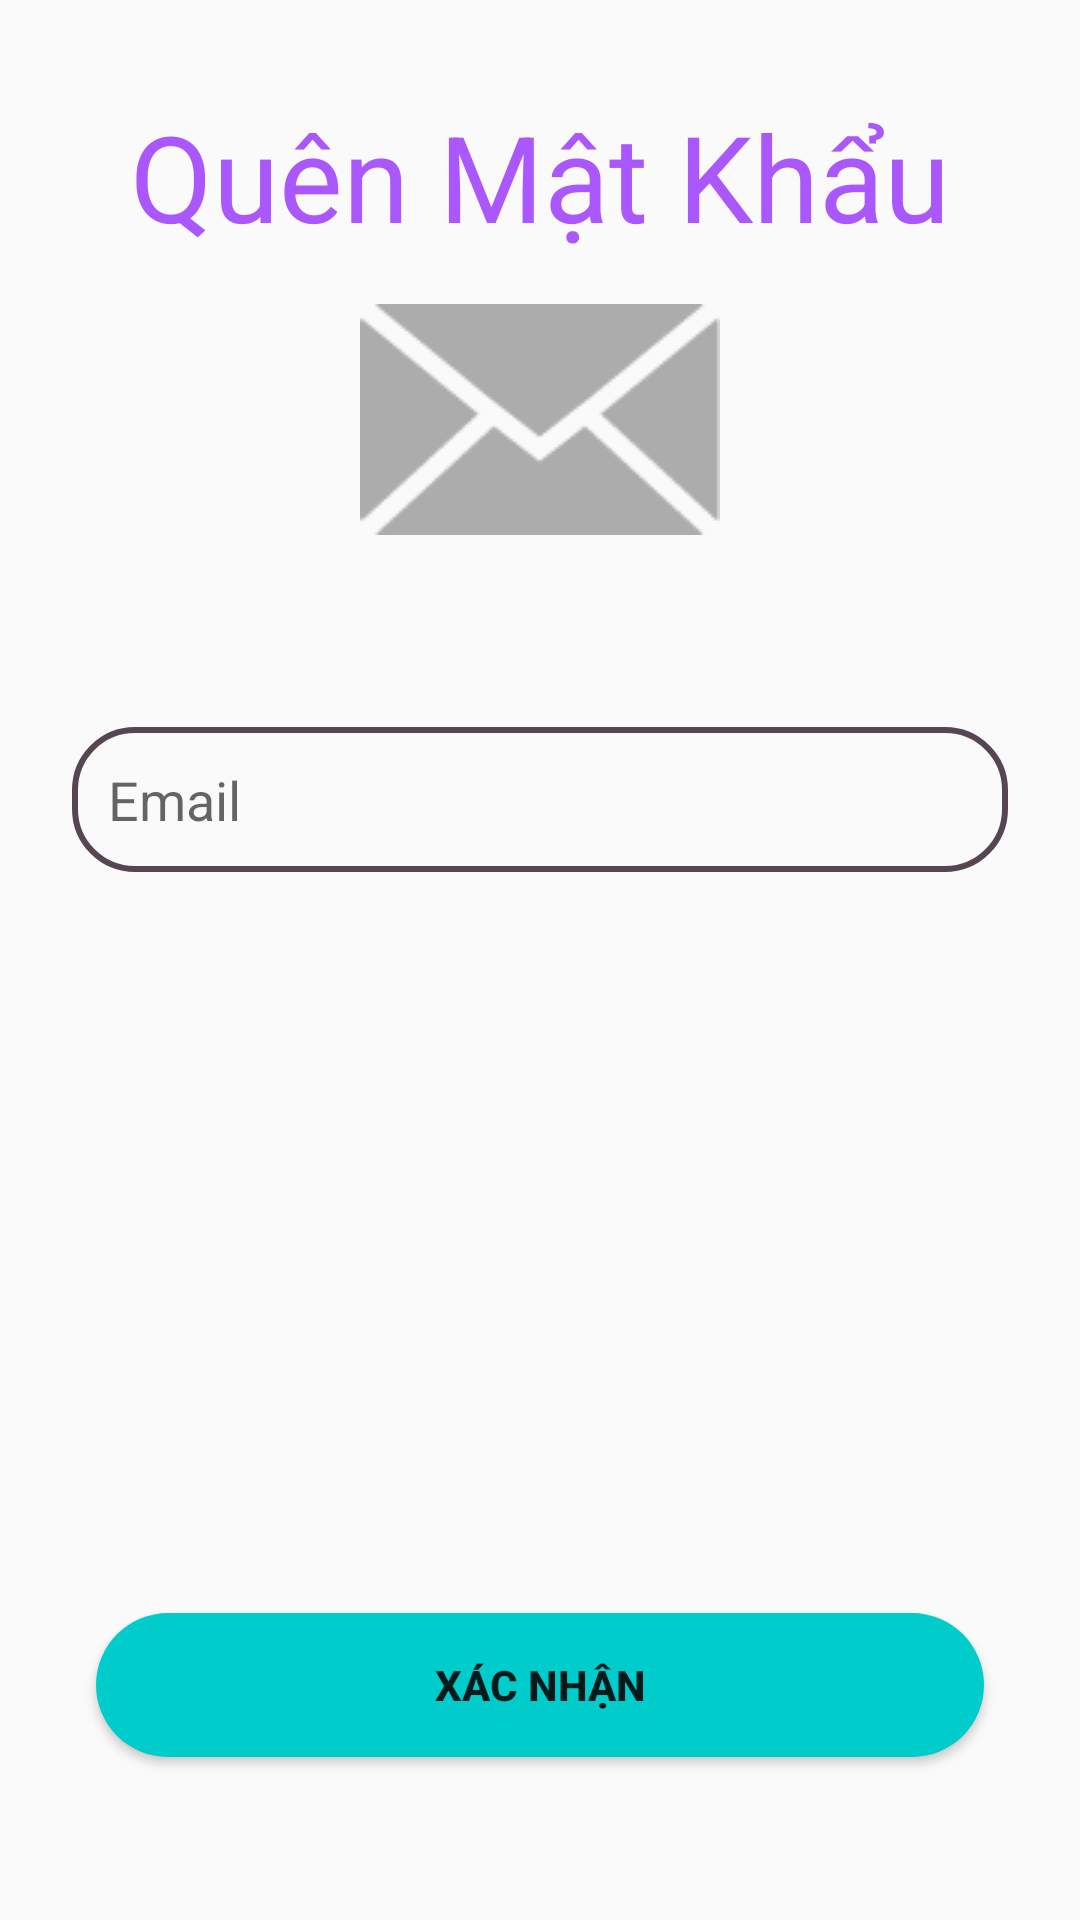

Icons on this 1080*1920 Android screen, each with its box as (x1, y1, x2, y2):
email: (360, 304, 720, 535)
